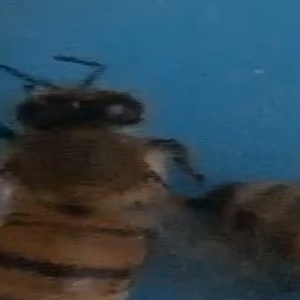bee: (2, 53, 188, 299)
